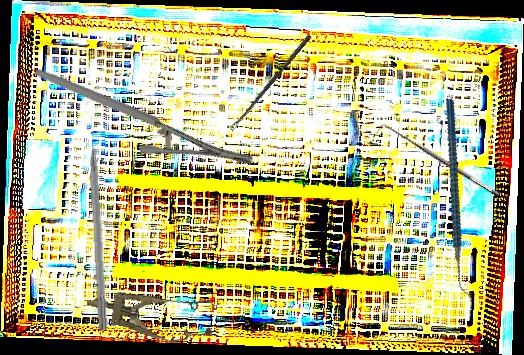Chopper: (395, 98, 524, 300)
Hook Surgical: (375, 119, 501, 206)
Needle Holder: (32, 9, 258, 223)
Pusher: (86, 114, 111, 332)
Speculum: (82, 277, 219, 350)
Surgical Spoon: (229, 33, 312, 132)
